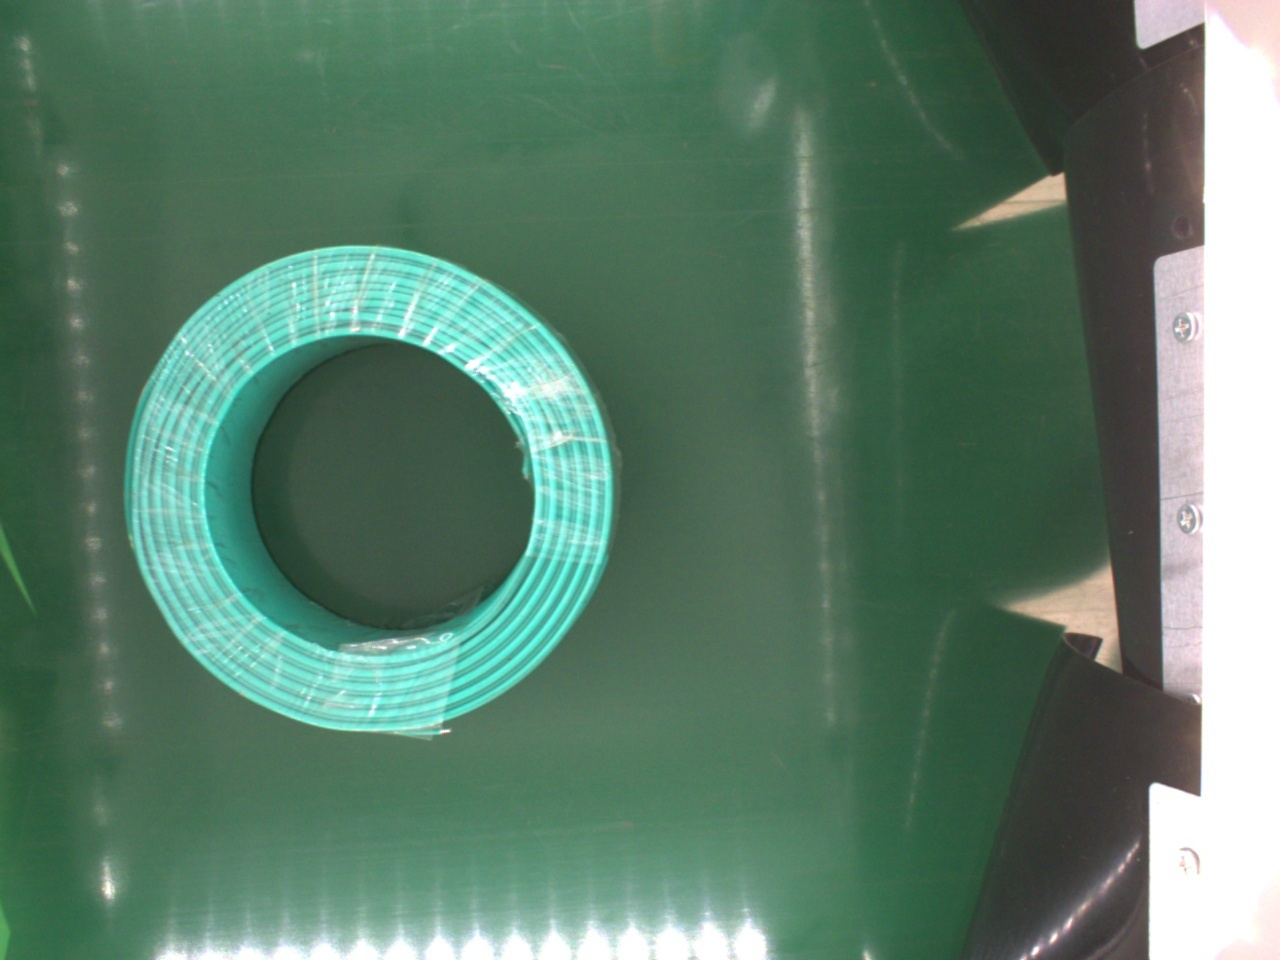green: (123, 246, 618, 739)
